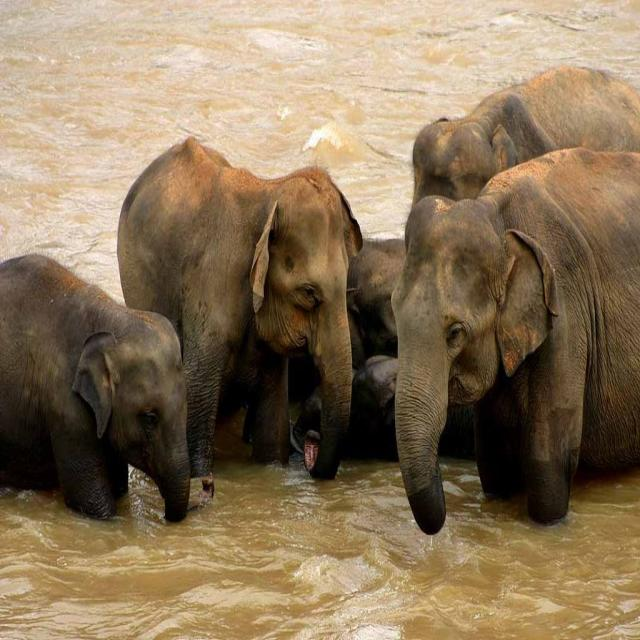Elephant: (386, 133, 640, 592), (119, 136, 365, 472), (0, 246, 193, 555)
